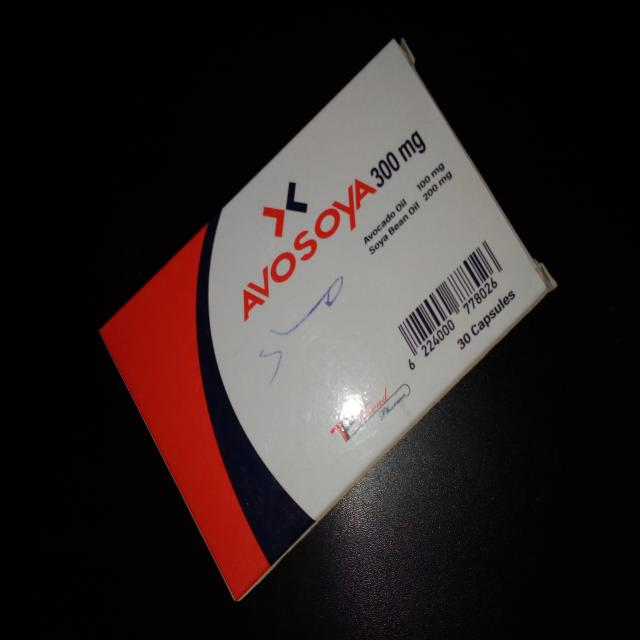Medicine: (96, 33, 559, 605)
